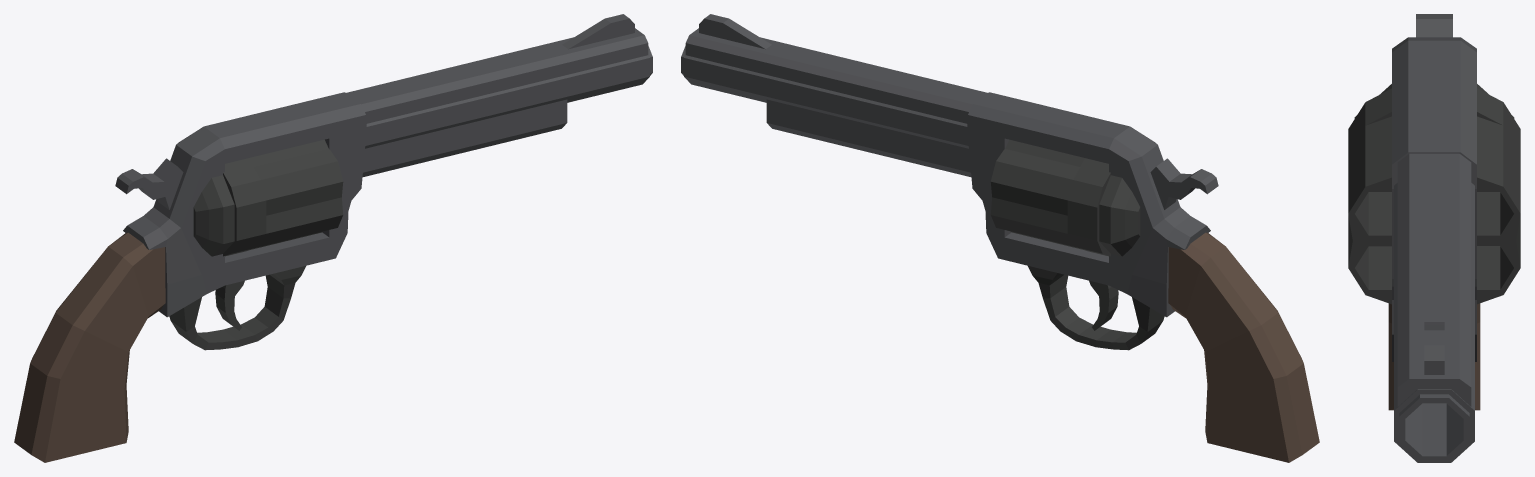
The model's file is Revolver.glb.
3 views of the same model, side by side, from view 1: azimuth 30°, elevation 25°; view 2: azimuth 150°, elevation 25°; view 3: azimuth 270°, elevation 25° (orthographic). The views are drawn at different scales.
Visible parts, largest first — view 1: Revolver; view 2: Revolver; view 3: Revolver.
Boxes of the visible parts, x1,y1,x2,y2 form: Revolver: (14,14,652,462); Revolver: (681,14,1319,462); Revolver: (1348,14,1520,462).
Size of the model in its own units: 1.98 by 0.8898 by 0.2944.
